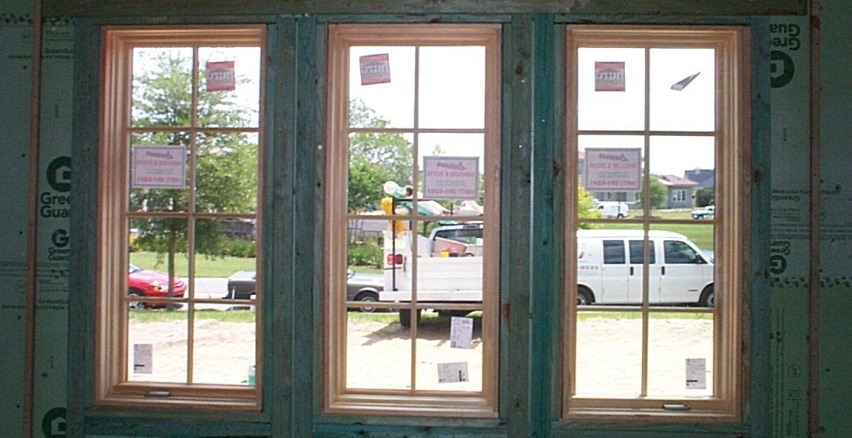windows: (104, 25, 733, 421)
